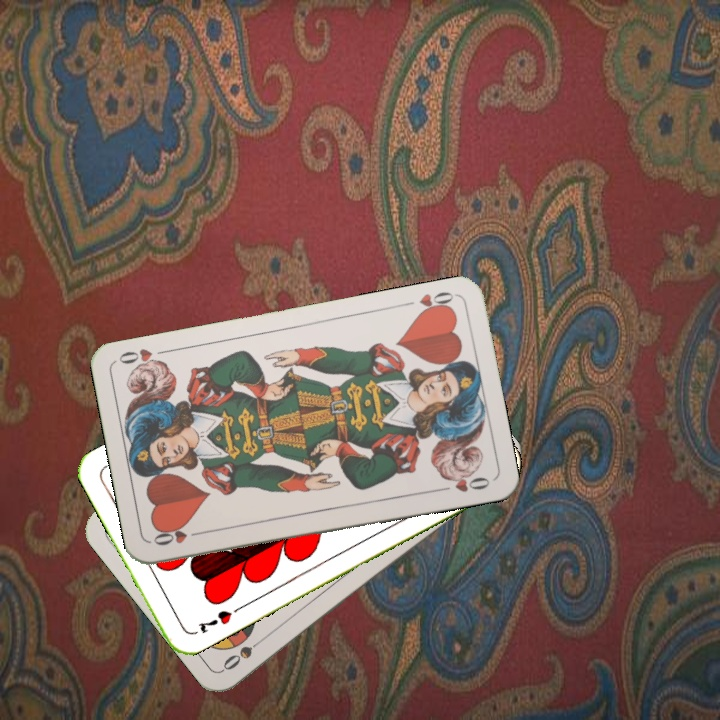H7: (194, 606, 235, 637)
HO: (413, 287, 458, 318), (149, 525, 208, 548)
SO: (218, 632, 269, 673)
